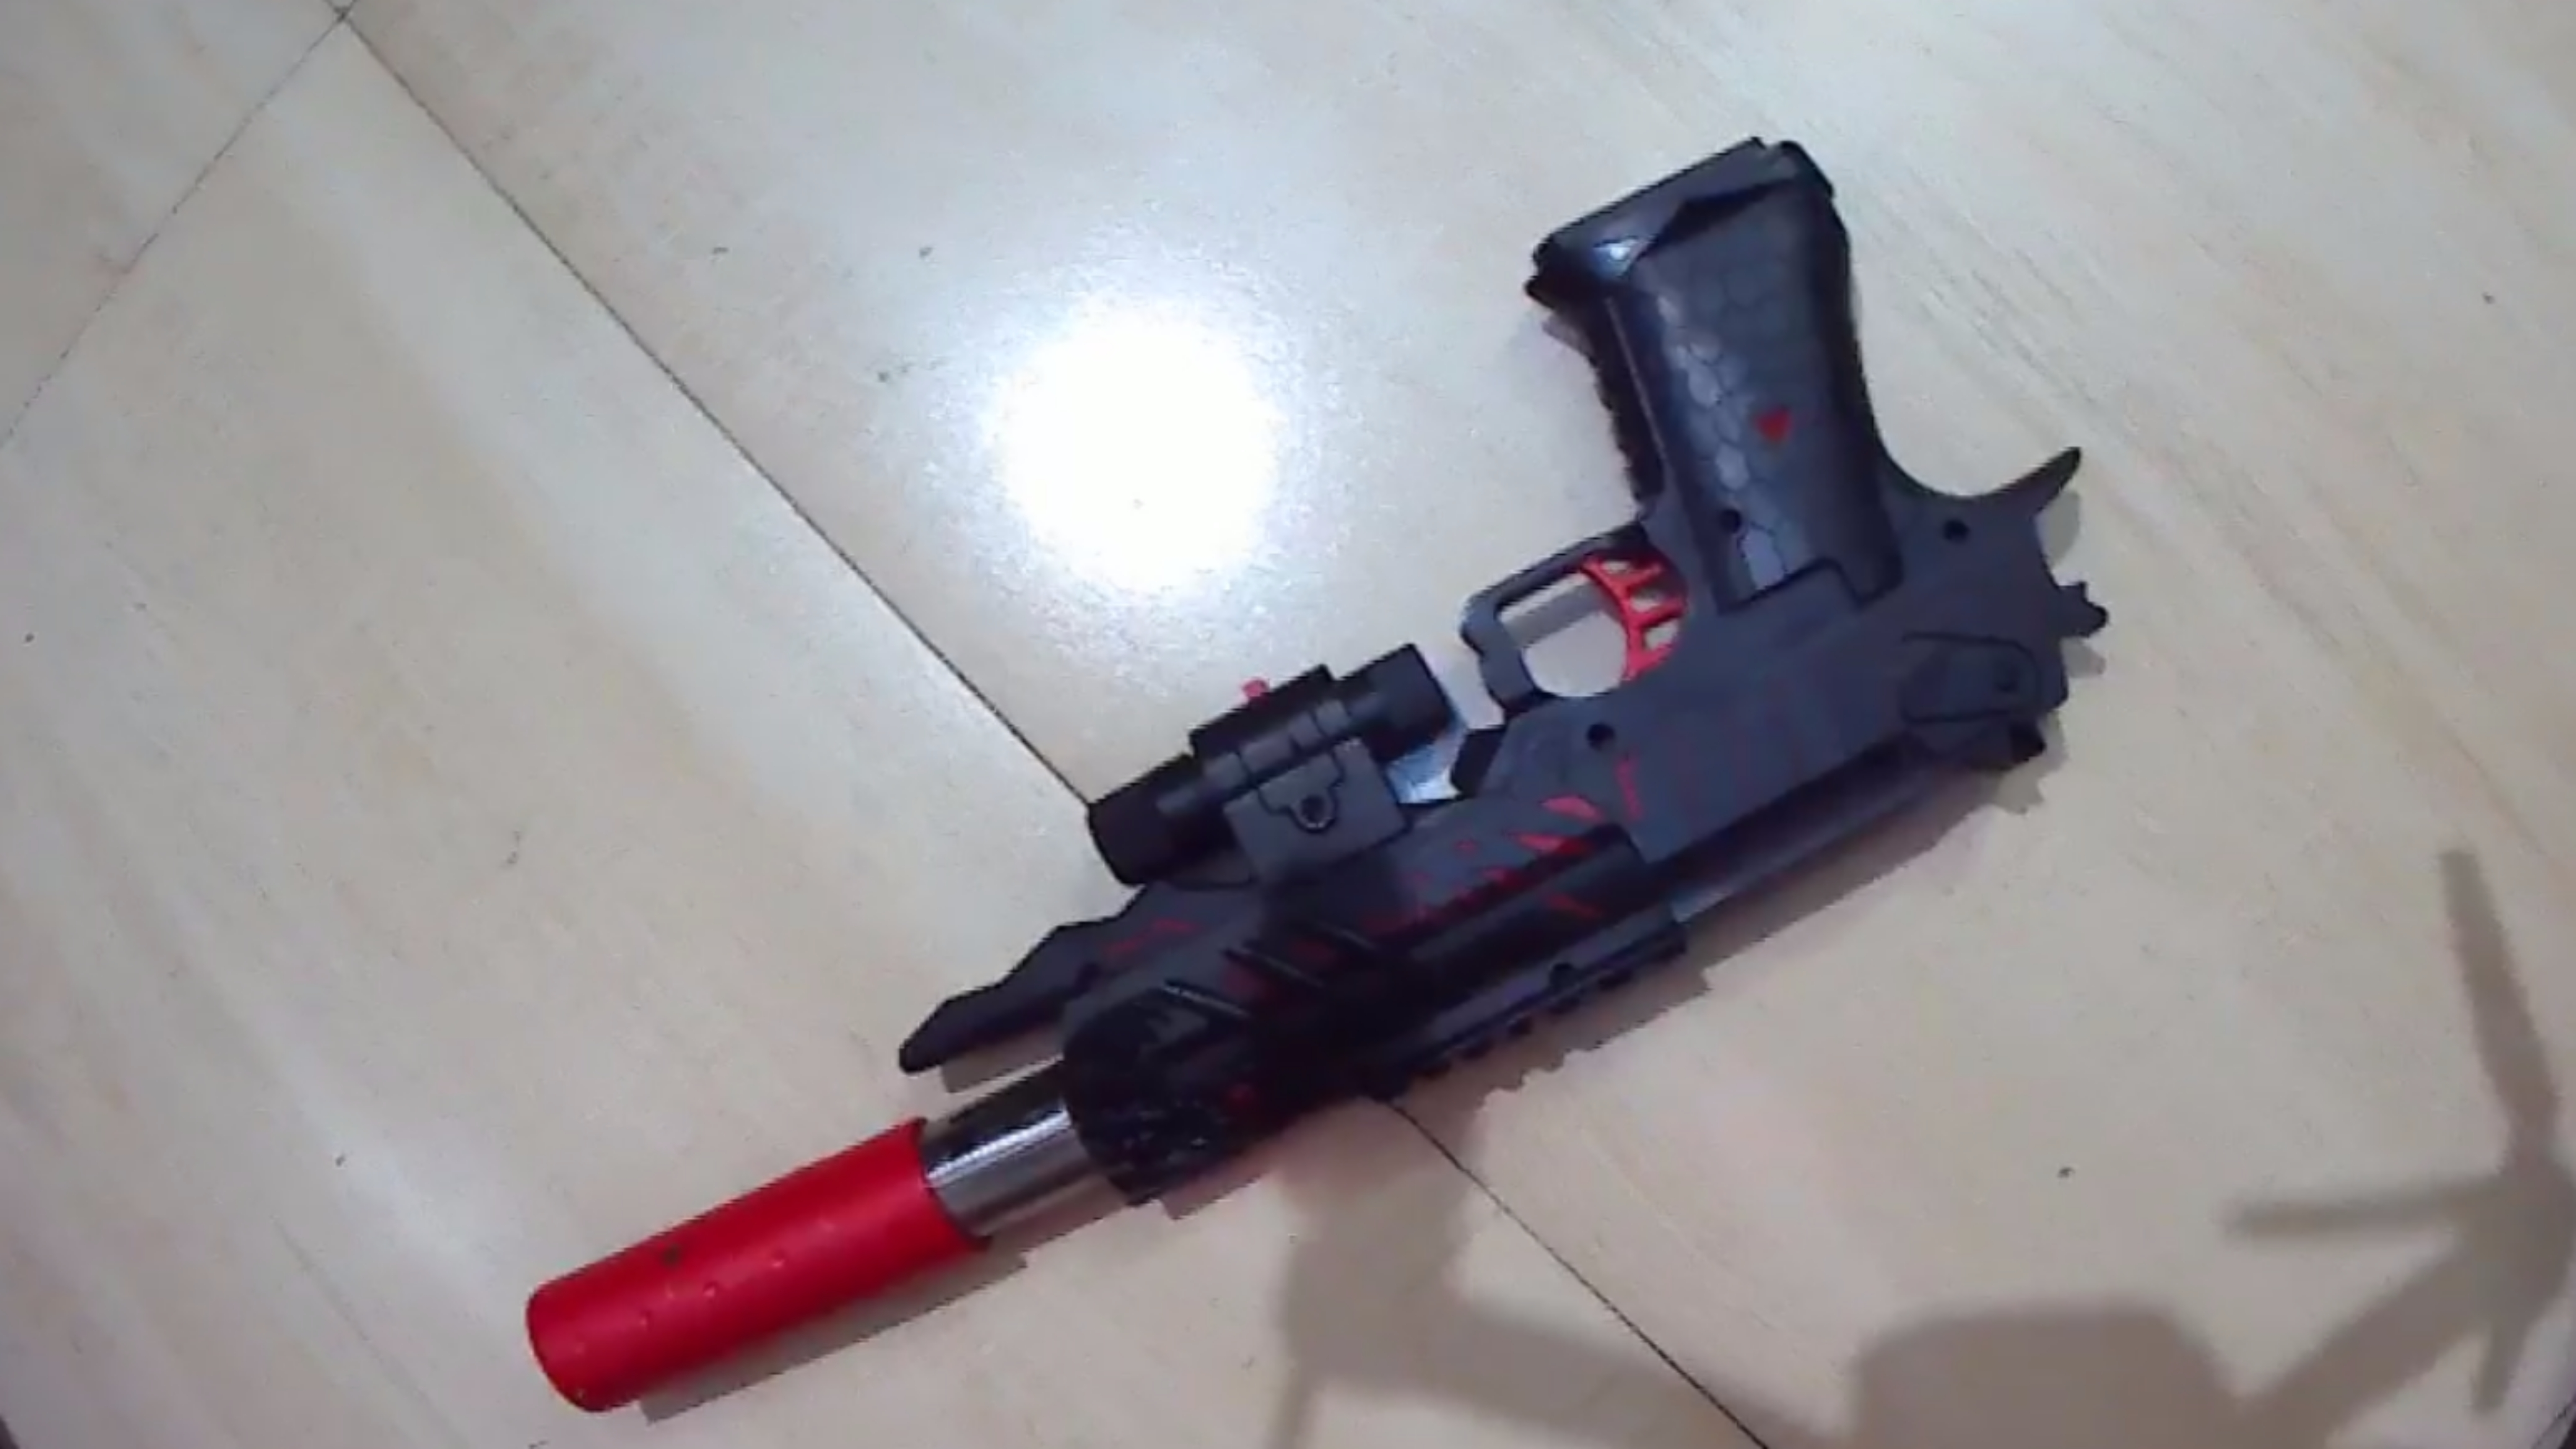handgun: (483, 111, 2109, 1415)
